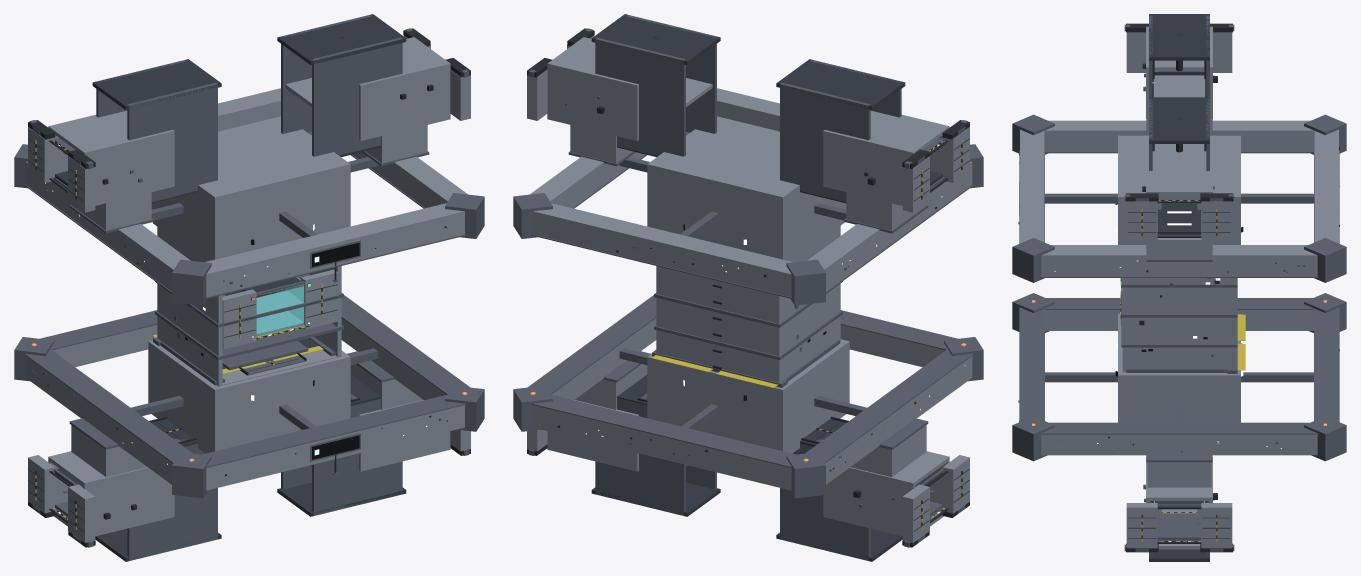
Rendered from ring-l.glb.
3 views of the same model, side by side, from view 1: azimuth 30°, elevation 25°; view 2: azimuth 150°, elevation 25°; view 3: azimuth 270°, elevation 25° (orthographic). The views are drawn at different scales.
Parts seen in each view (by area): view 1: hub (×2), ringRun0 (×2), ringHoist0ShaftWall0 (×2), ringHoist1ShaftWall1 (×2), berthPylon1Wall1 (×2), berthPylon0Wall0 (×2), ringRun3 (×2), ringRun1 (×2), ringHoist0PocketFloor (×2), joiningHubWall0, ringHoist1PocketFloor (×2), ringRun2 (×2) (+29 smaller); view 2: hub (×2), ringRun2 (×2), ringHoist0ShaftWall1 (×2), ringHoist1ShaftWall0 (×2), joiningHubAft, berthPylon1Wall0 (×2), berthPylon0Wall1 (×2), ringRun3 (×2), ringRun1 (×2), joiningHubWall0, ringHoist0PocketFloor (×2), ringRun0 (×2) (+22 smaller); view 3: ringRun1 (×2), hub (×2), ringRun3 (×2), joiningHubWall1, ringHoist0PocketFloor (×2), ringRail1, ringHoist1PocketFloor, ringRail0, ringRail2, berthPylon1Floor, ringRun0, ringRun2 (+22 smaller).
Boxes of the visible parts, x1,y1,x2,y2 form: hub (×2): (148,116,350,453); ringRun0 (×2): (205,203,464,490); ringHoist0ShaftWall0 (×2): (127,82,402,515); ringHoist1ShaftWall1 (×2): (127,37,402,560); berthPylon1Wall1 (×2): (82,62,450,535); berthPylon0Wall0 (×2): (82,130,450,470); ringRun3 (×2): (25,152,467,484); ringRun1 (×2): (25,161,446,400); ringHoist0PocketFloor (×2): (92,59,406,516); joiningHubWall0: (159,227,222,386); ringHoist1PocketFloor (×2): (95,14,406,561); ringRun2 (×2): (52,88,280,367); hub (×2): (647,116,849,453); ringRun2 (×2): (533,203,792,490); ringHoist0ShaftWall1 (×2): (595,82,870,515); ringHoist1ShaftWall0 (×2): (595,37,870,560); joiningHubAft: (656,266,779,381); berthPylon1Wall0 (×2): (547,62,915,535); berthPylon0Wall1 (×2): (547,130,911,470); ringRun3 (×2): (530,152,972,484); ringRun1 (×2): (551,161,972,400); joiningHubWall0: (775,226,840,382); ringHoist0PocketFloor (×2): (591,59,905,516); ringRun0 (×2): (717,88,945,367); ringRun1 (×2): (1041,120,1317,455); hub (×2): (1118,135,1240,422); ringRun3 (×2): (1041,245,1317,330); joiningHubWall1: (1122,278,1236,371); ringHoist0PocketFloor (×2): (1149,14,1209,561); ringRail1: (1040,422,1318,434); ringHoist1PocketFloor: (1149,97,1209,143); ringRail0: (1019,307,1044,421); ringRail2: (1314,307,1339,421); berthPylon1Floor: (1146,151,1212,195); ringRun0: (1020,129,1044,243); ringRun2: (1314,129,1338,243).
Size of the model in its own units: 55.18 by 61.9 by 44.5.
